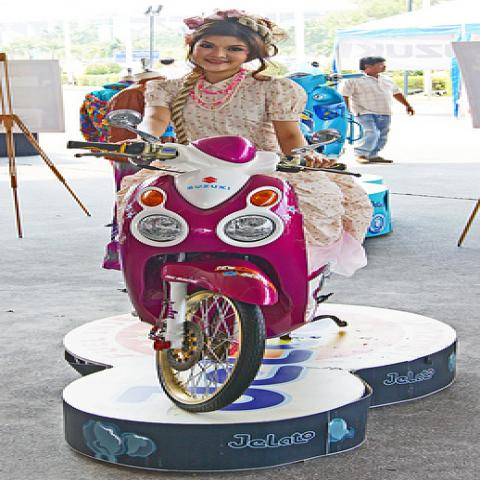motorcycle: (71, 113, 366, 412)
